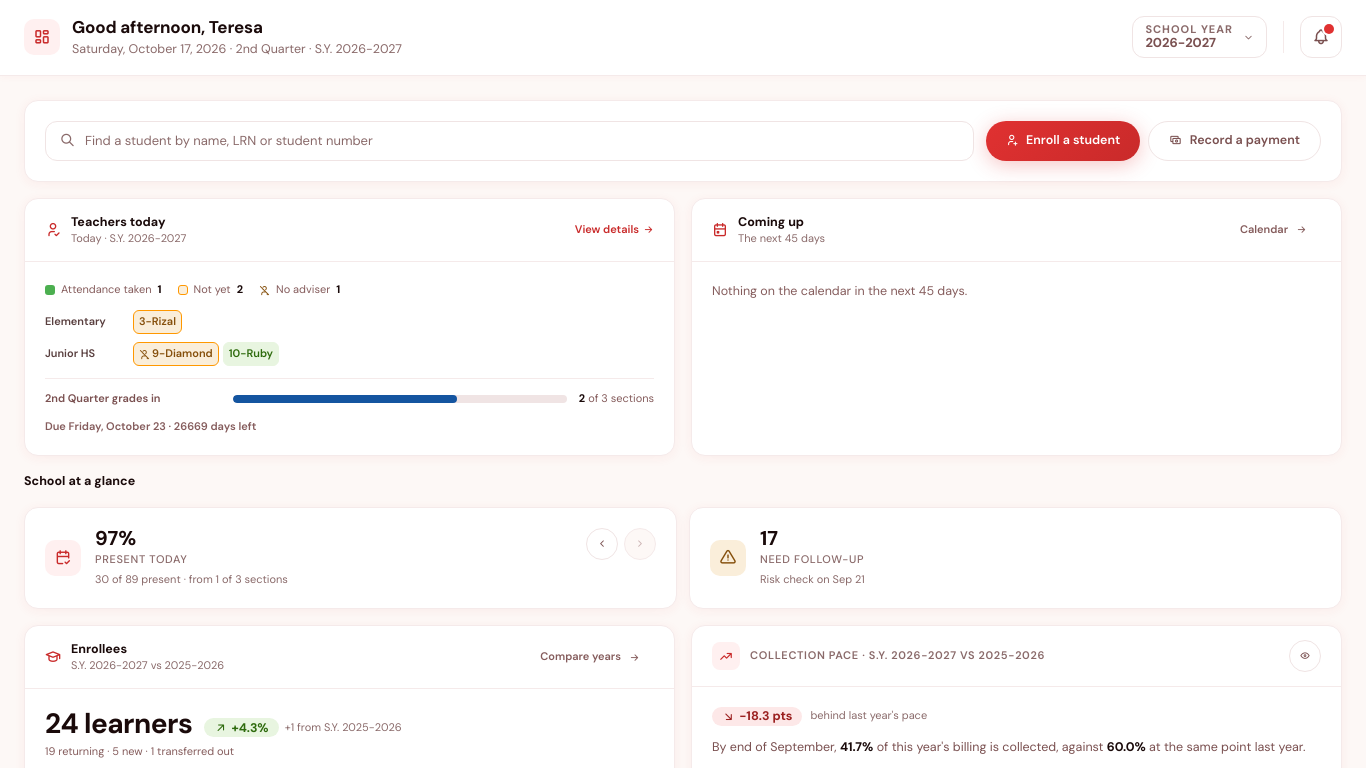
Test: AdminHome — needs your attention › lists each queue with its count in the bell
Click the button named "Notifications, 4 need your attention" at (1321, 37), box [1300,16,1342,58]
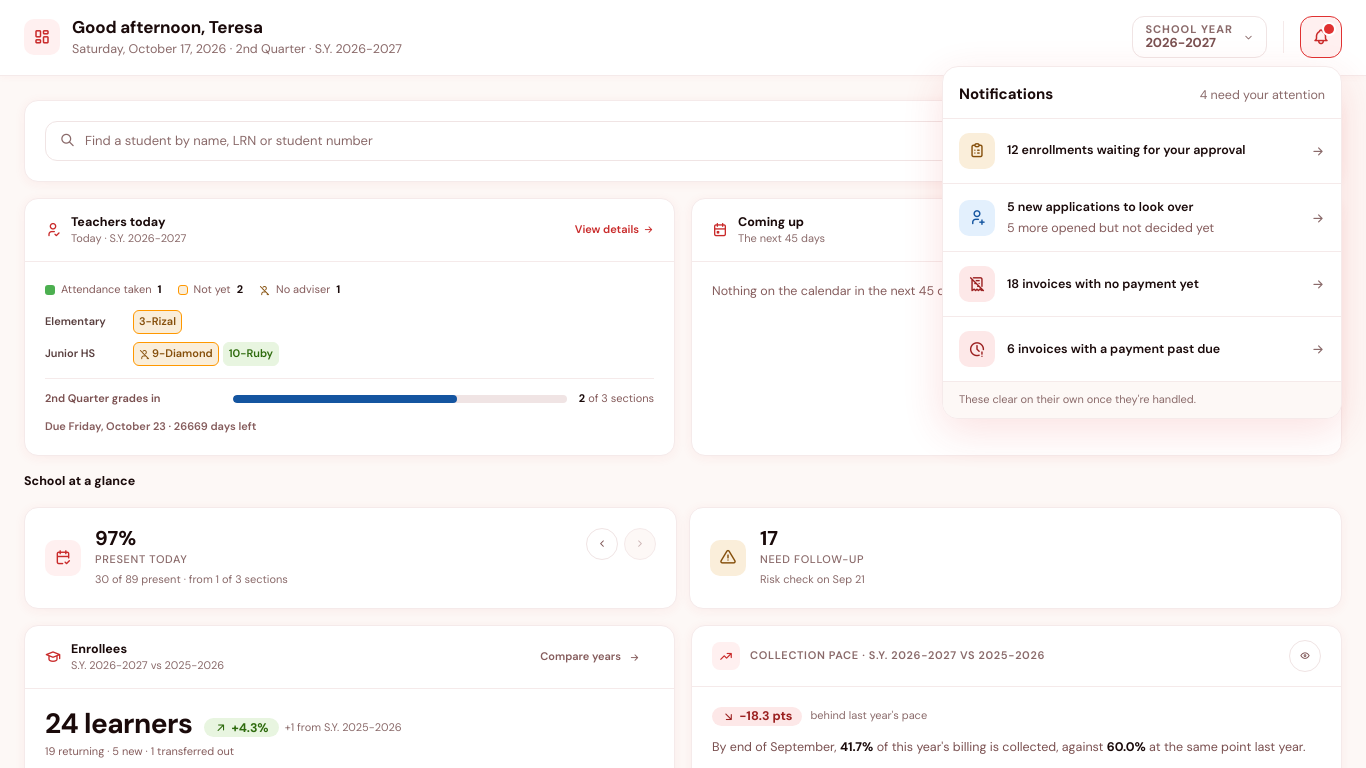
Now the text "4 need your attention" is shown, box [1200,86,1325,105]
Now the link "12 enrollments waiting for your approval" is shown, box [959,133,1325,169]
Now the link "5 new applications to look over" is shown, box [959,199,1325,236]
